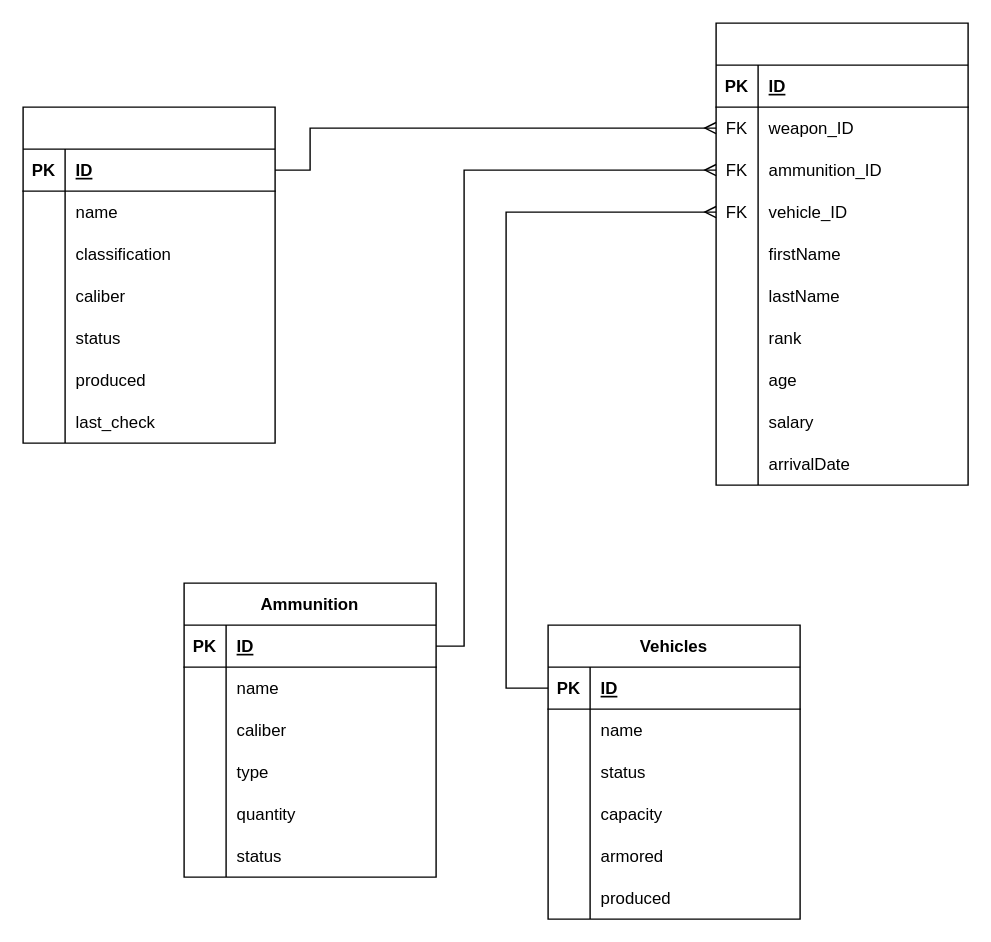
This 991x942 diagram has some shape labels left out. The box of each missing label's shape, as (x1, y1, x2, y2) in pixels:
Soldiers: (715, 22, 968, 485)
Weapons: (22, 106, 275, 443)
